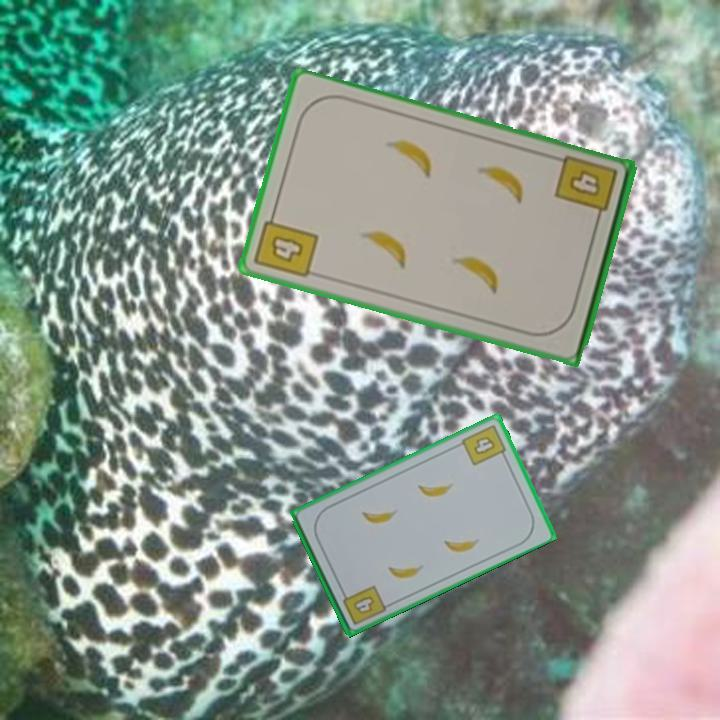4b: (250, 207, 321, 282), (551, 151, 621, 227), (458, 420, 510, 469), (338, 581, 389, 628)
